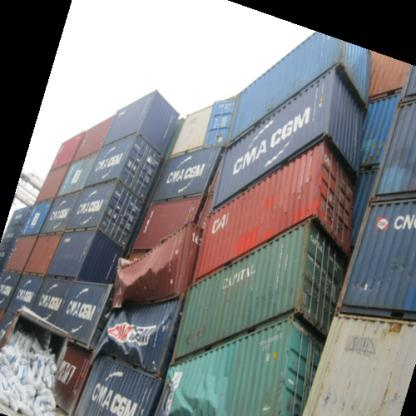Damage: (2, 307, 70, 384), (88, 306, 168, 359), (101, 247, 182, 298), (163, 359, 229, 414)
